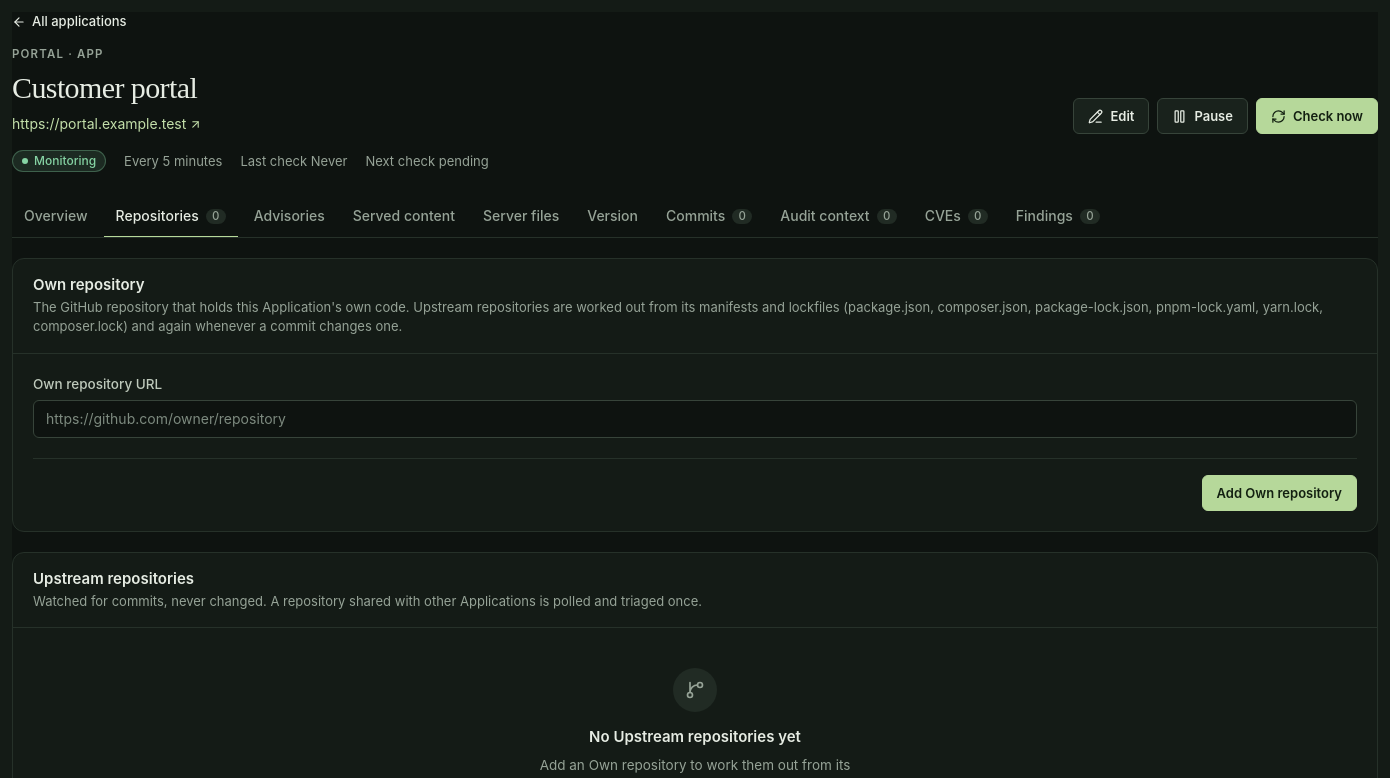
Test: adds, shows and removes the Own repository
Expected: the text "worked out from its manifests and lockfiles" is shown, [33,299,1323,334]
Type "https://gitlab.com/example/portal" into the field labelled "Own repository URL" at (695, 419), box [33,400,1357,438]
Click the button "Add Own repository" at (1279, 493), box [1202,475,1357,511]
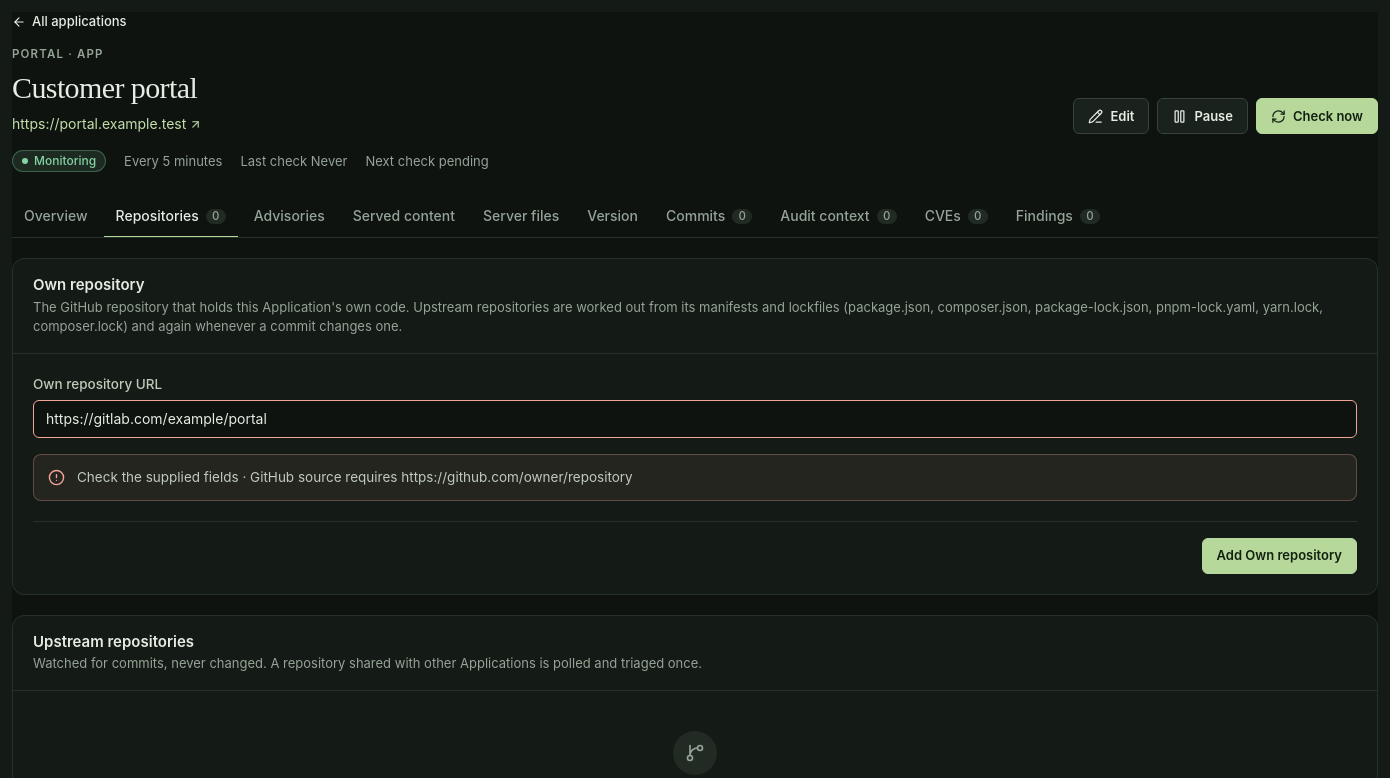
Result: the text "GitHub source requires" is shown at [77,469,633,485]
Replace the text in the field labelled "Own repository URL" with "https://github.com/Example/Portal" at (695, 419), box [33,400,1357,438]
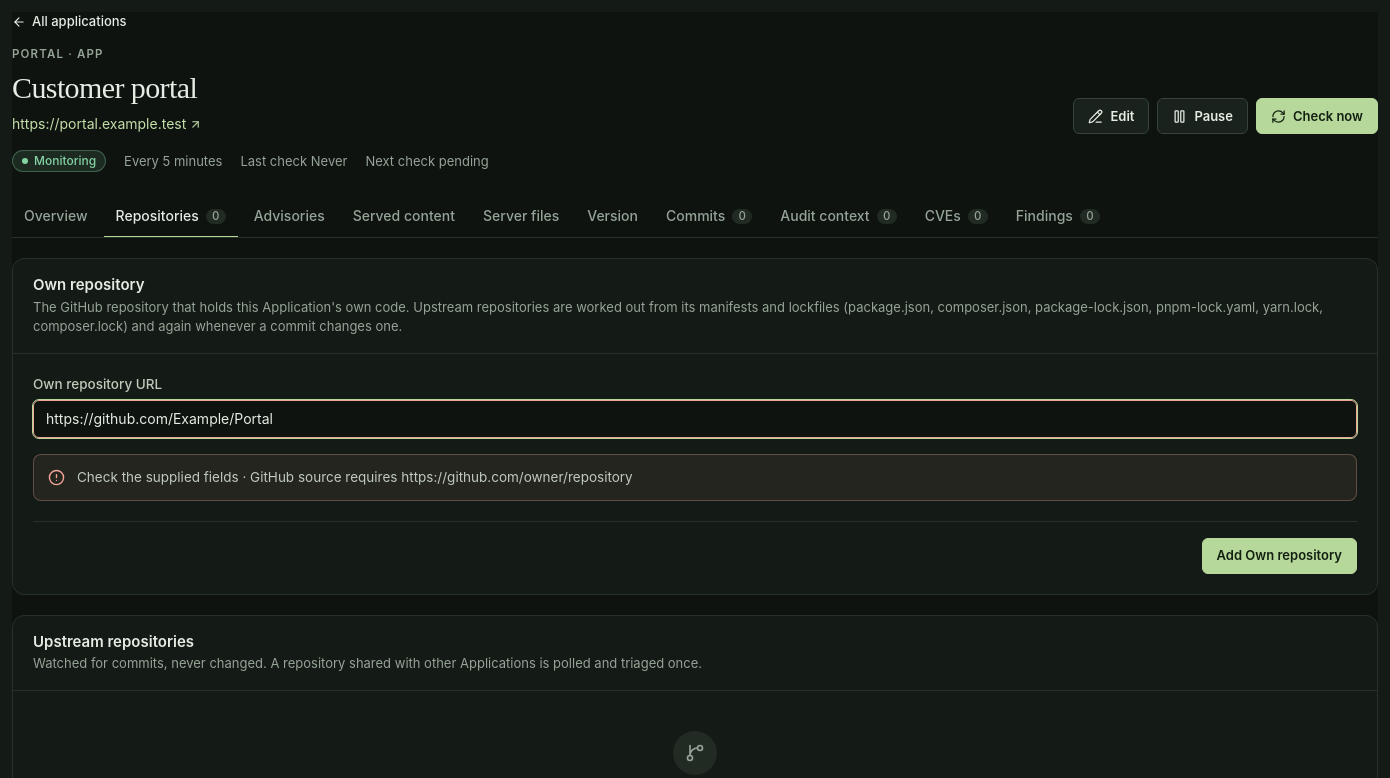
Click the button "Add Own repository" at (1279, 556), box [1202,538,1357,574]
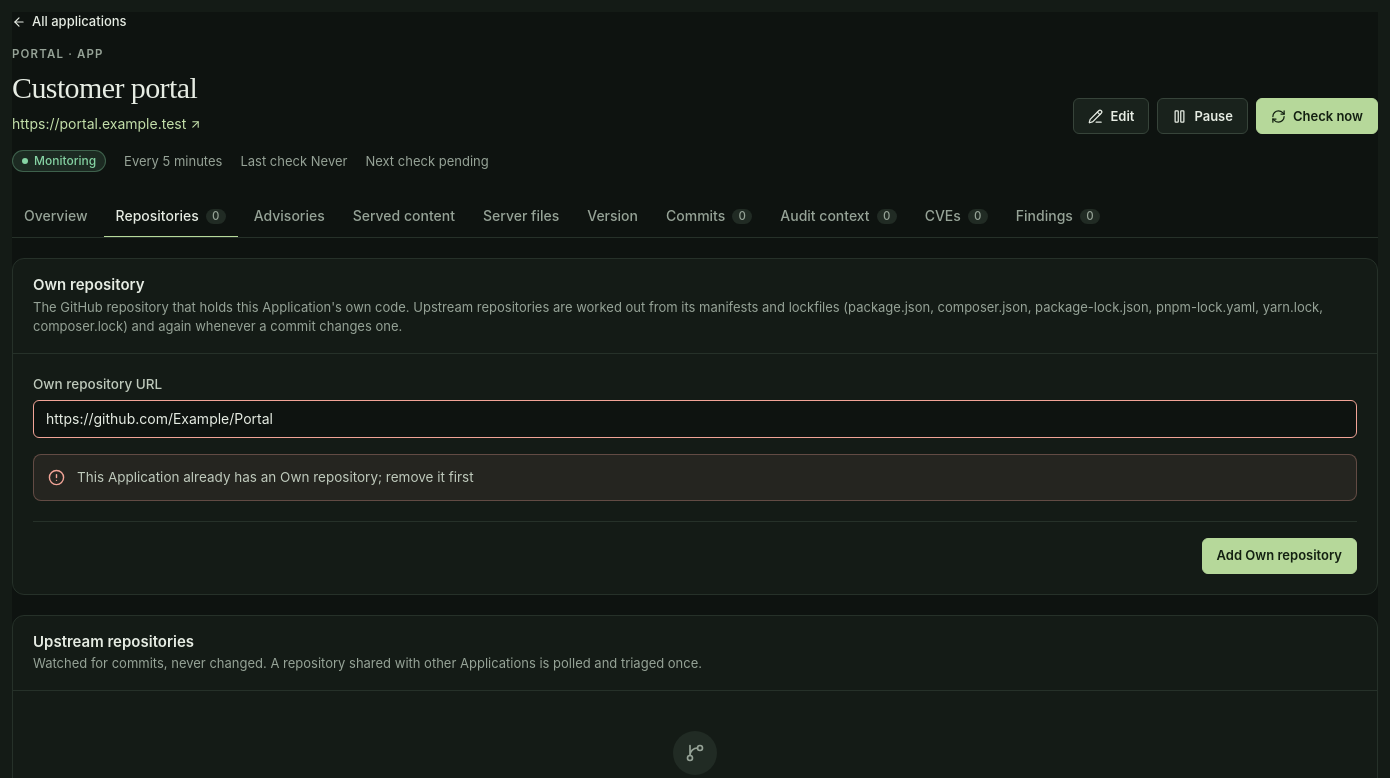
Result: the text "already has an Own repository" is shown at [77,469,474,485]
Click the button "Add Own repository" at (1279, 556), box [1202,538,1357,574]
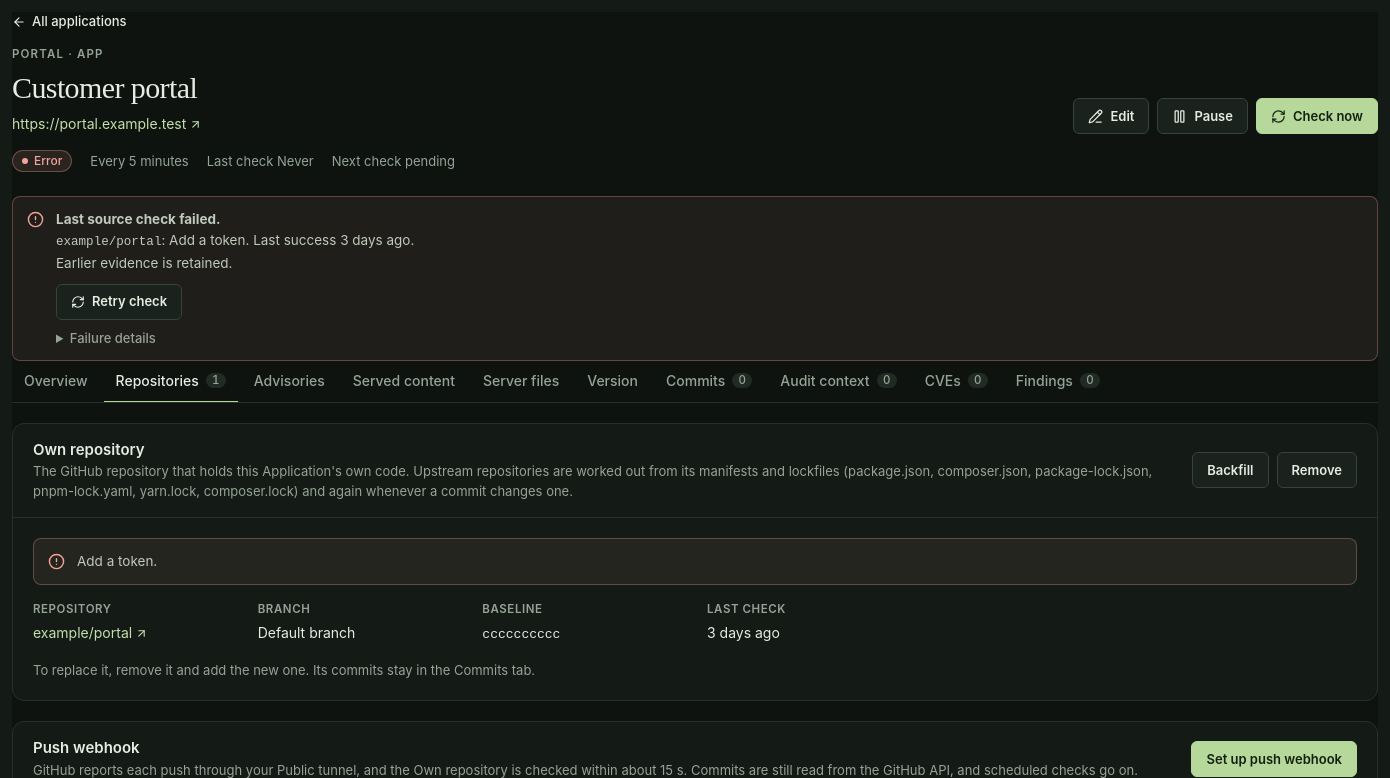
Result: the link "example/portal" is shown at [33,624,148,641]
Result: the text "Add a token." is shown at [77,553,157,569]
Click the button "Remove" at (1317, 470), box [1276,452,1357,488]
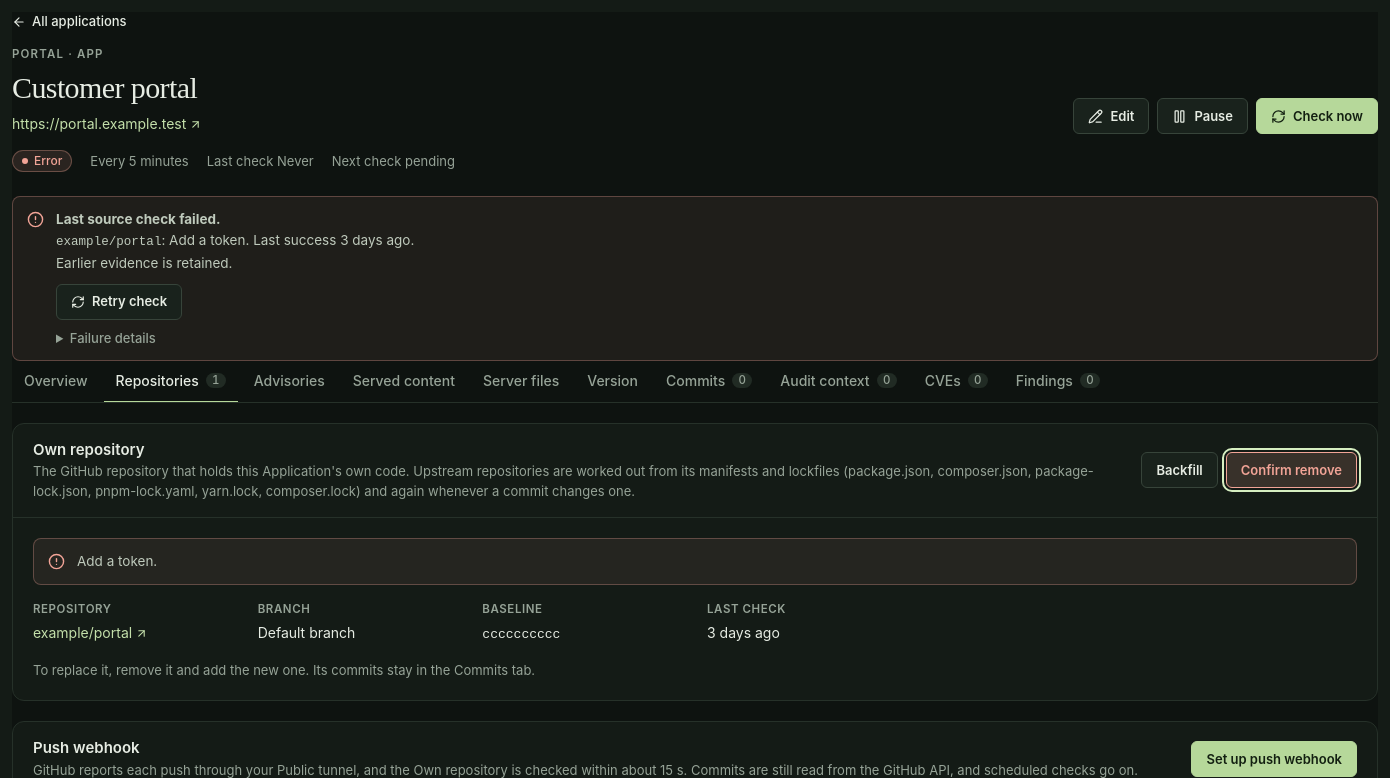
Click the button "Confirm remove" at (1291, 470), box [1226,452,1357,488]
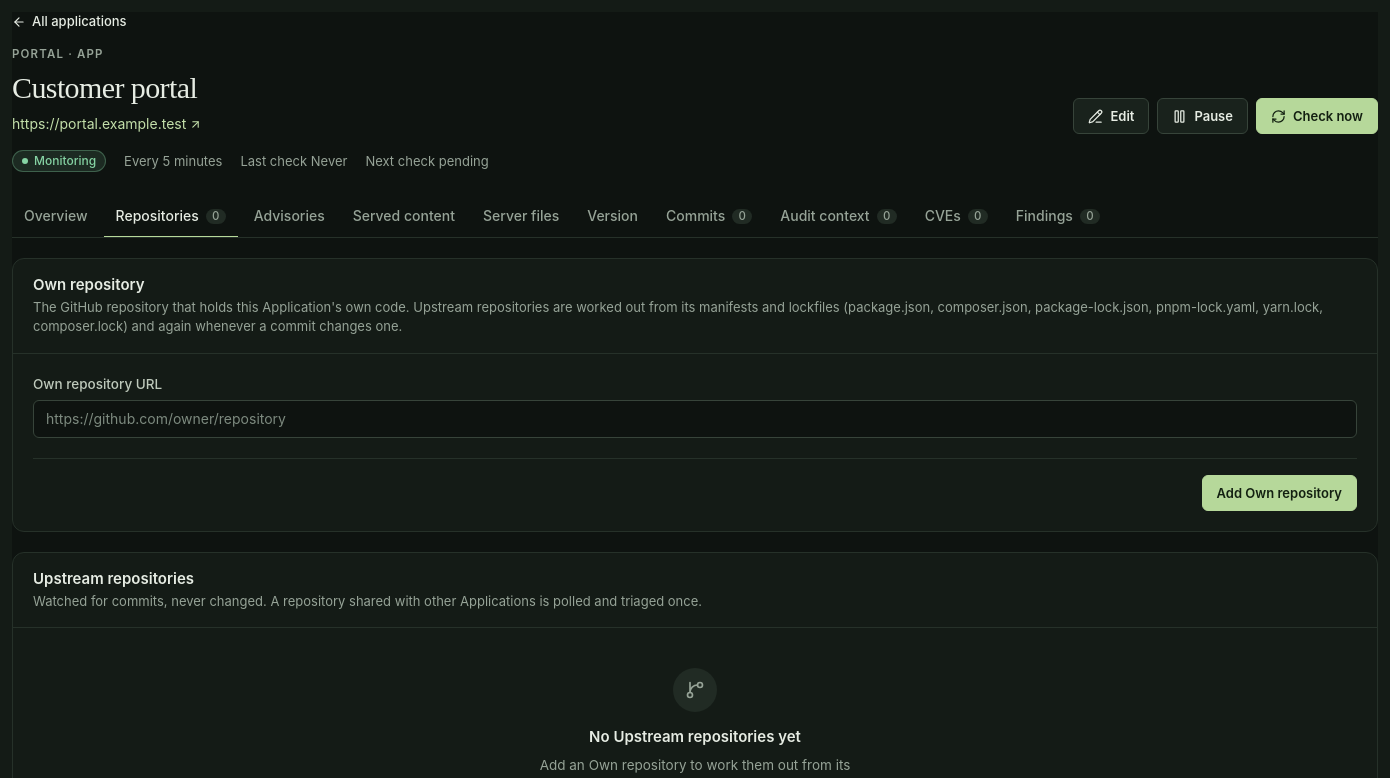
Result: the field labelled "Own repository URL" is shown at [33,400,1357,438]
